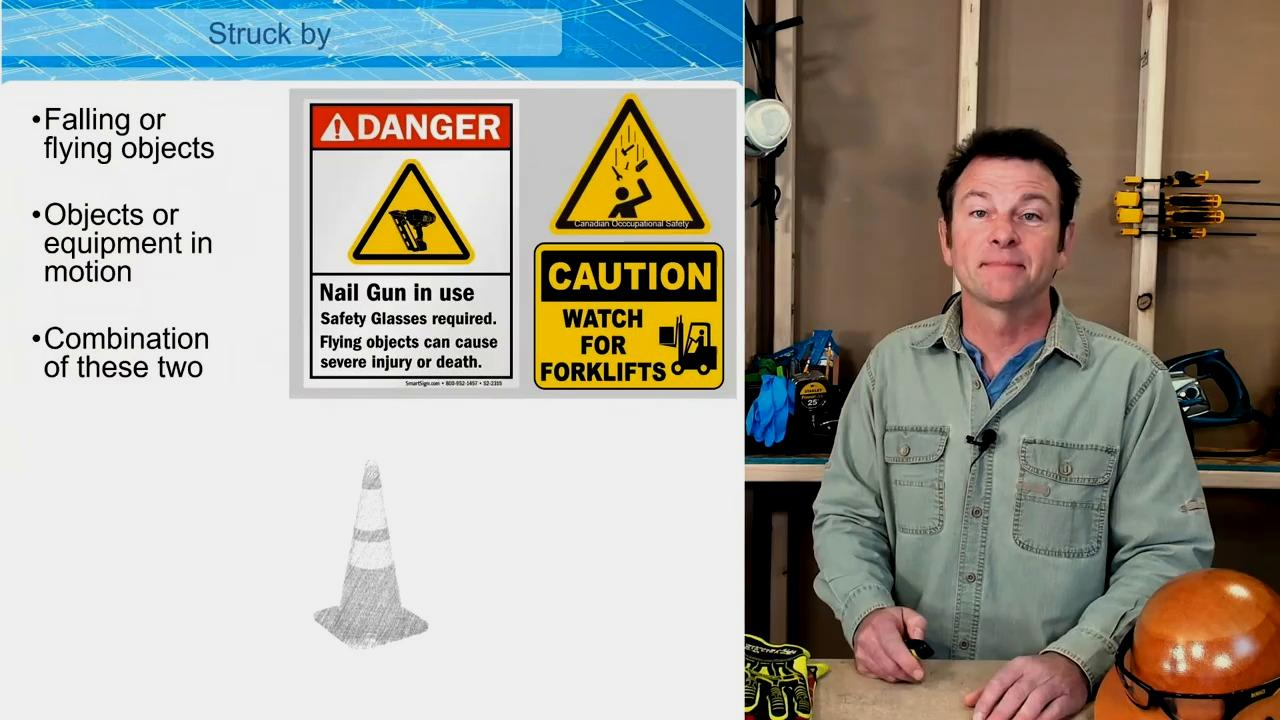safety_signage: (283, 83, 739, 396)
